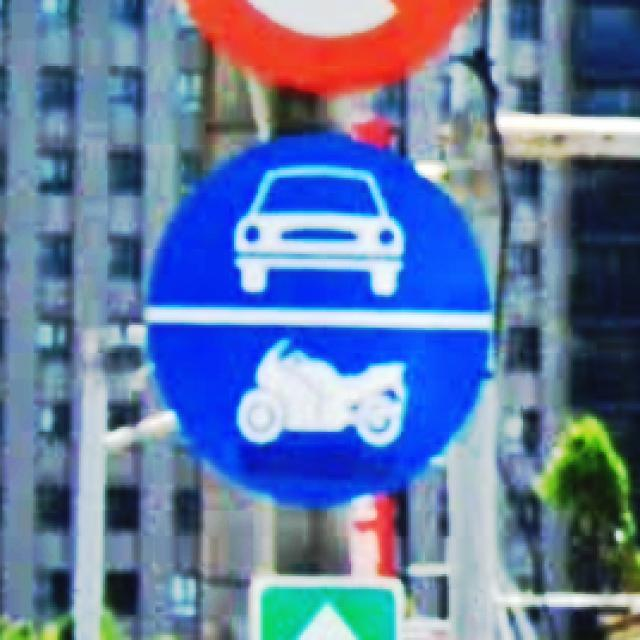carmotorcycle: (141, 127, 497, 508)
